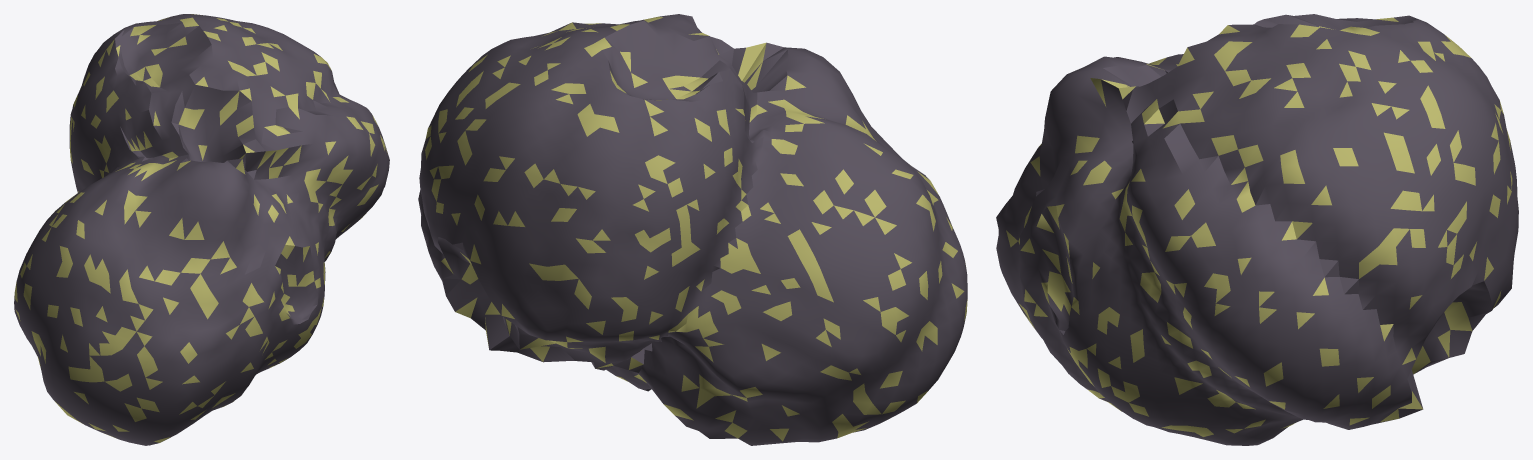
Rendered from medium-carbonic-asteroid.glb.
3 views of the same model, side by side, from view 1: azimuth 30°, elevation 25°; view 2: azimuth 150°, elevation 25°; view 3: azimuth 270°, elevation 25° (orthographic). The views are drawn at different scales.
Parts seen in each view (by area): view 1: body; view 2: body; view 3: body.
Boxes of the visible parts, x1,y1,x2,y2 form: body: (14,14,389,445); body: (418,14,967,445); body: (996,14,1518,445).
Size of the model in its own units: 3.44 by 2.96 by 3.07.
